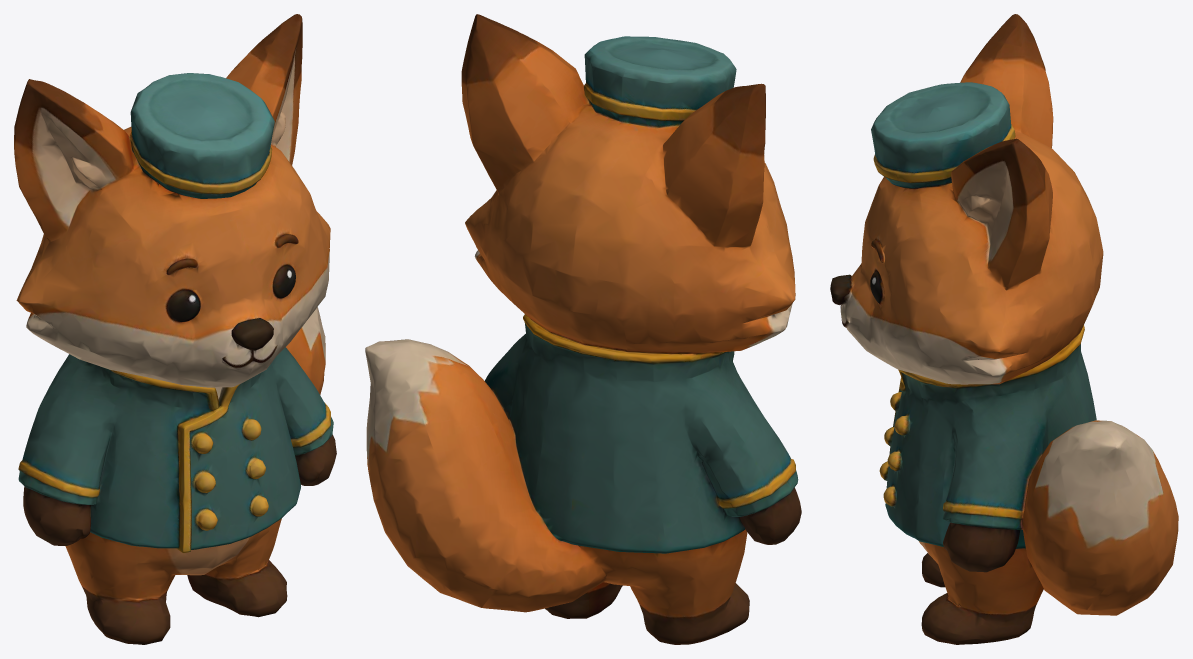
The model's file is fox-bellhop-tripo.glb.
3 renders of one model, left to right at view 1: azimuth 30°, elevation 25°; view 2: azimuth 150°, elevation 25°; view 3: azimuth 270°, elevation 25°, orthographic. The views are drawn at different scales.
Parts seen in each view (by area): view 1: tripo_node_169823b9-7137-484a-8275-9328be8d41a7; view 2: tripo_node_169823b9-7137-484a-8275-9328be8d41a7; view 3: tripo_node_169823b9-7137-484a-8275-9328be8d41a7.
Boxes of the visible parts, <box> form: tripo_node_169823b9-7137-484a-8275-9328be8d41a7: <box>14,14,336,644</box>; tripo_node_169823b9-7137-484a-8275-9328be8d41a7: <box>365,14,801,644</box>; tripo_node_169823b9-7137-484a-8275-9328be8d41a7: <box>830,14,1178,644</box>.
Bounding box in the file's own units: 0.6621 × 1 × 0.5979.
1 material, 1 textured.
